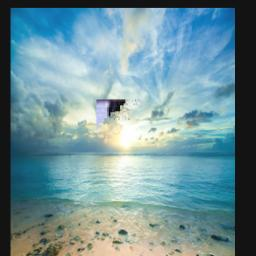Crow: (96, 99, 146, 255)
